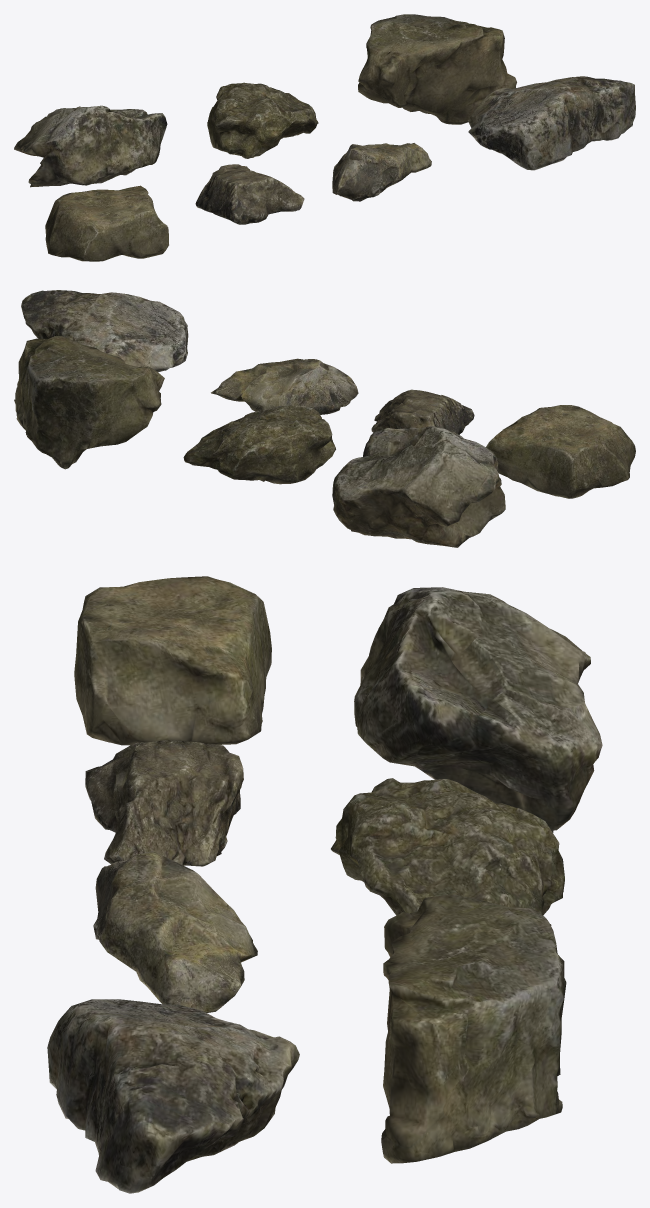
Rendered from rock_moss_set_02.glb.
3 views of the same model, one above another, from view 1: azimuth 30°, elevation 25°; view 2: azimuth 150°, elevation 25°; view 3: azimuth 270°, elevation 25° (orthographic). The views are drawn at different scales.
Parts seen in each view (by area): view 1: rock_moss_set_02_rock08; view 2: rock_moss_set_02_rock08; view 3: rock_moss_set_02_rock08.
Part boxes in pixels (x1,y1,x2,y2): rock_moss_set_02_rock08: [14, 14, 635, 261]; rock_moss_set_02_rock08: [14, 290, 635, 547]; rock_moss_set_02_rock08: [47, 576, 602, 1193].
Bounding box in the file's own units: 8.28 × 1.37 × 3.41.
1 material, 1 textured.
